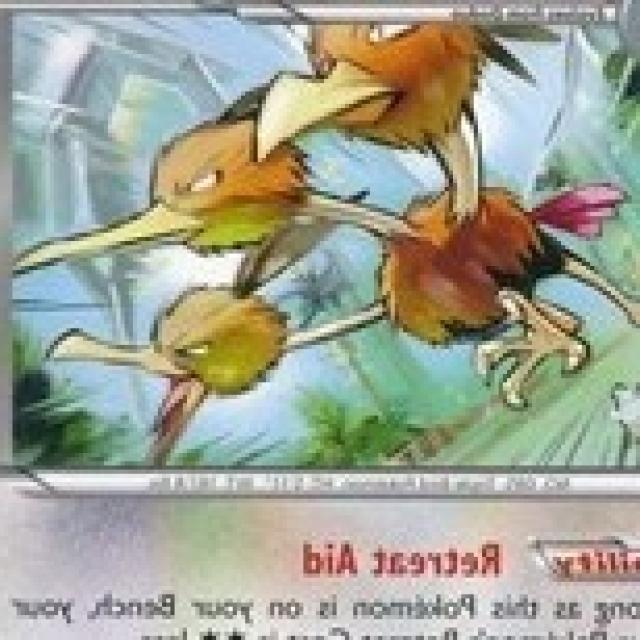Dodrio: (136, 18, 613, 388)
